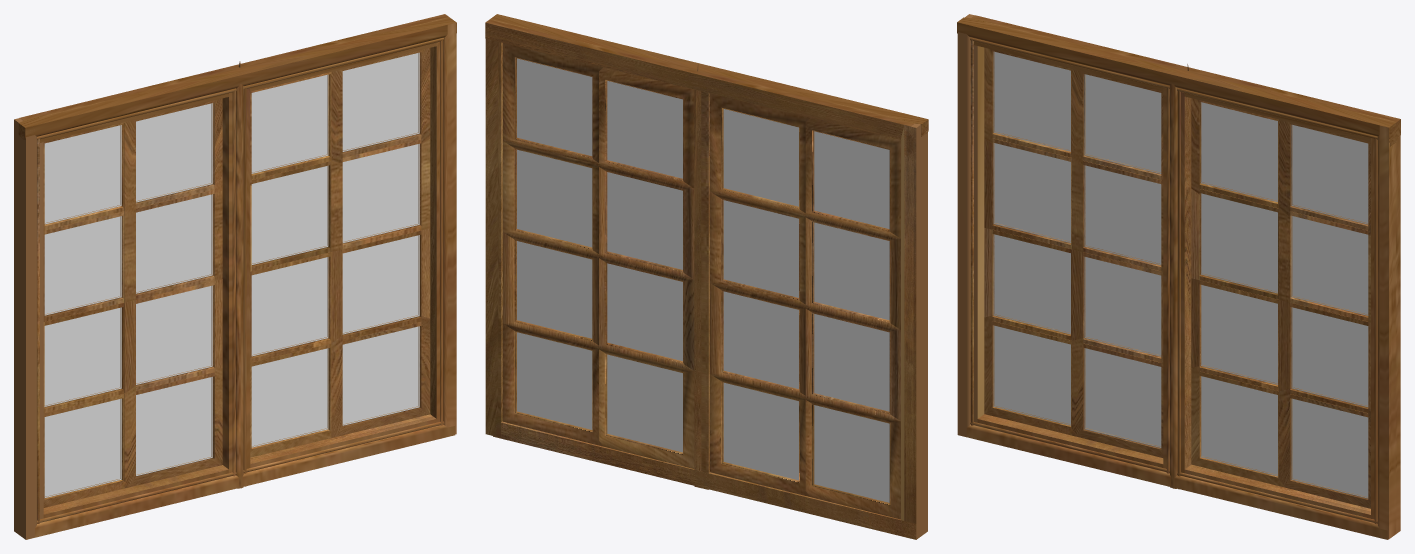
File: switch.gltf
3 views of the same model, side by side, from view 1: azimuth 30°, elevation 25°; view 2: azimuth 150°, elevation 25°; view 3: azimuth 330°, elevation 25° (orthographic).
Parts seen in each view (by area): view 1: Plane.001, Plane.002, Cube.001_Cube.007; view 2: Plane.001, Plane.002, Cube.001_Cube.007; view 3: Plane.001, Plane.002, Cube.001_Cube.007.
Part boxes in pixels (box(x1,y1,x2,y2)): Plane.001: box(250, 48, 430, 457); Plane.002: box(43, 98, 222, 507); Cube.001_Cube.007: box(14, 14, 456, 539); Plane.001: box(503, 43, 694, 468); Plane.002: box(710, 93, 900, 519); Cube.001_Cube.007: box(485, 14, 928, 539); Plane.001: box(1191, 98, 1370, 508); Plane.002: box(984, 47, 1163, 457); Cube.001_Cube.007: box(957, 14, 1400, 539).
Size of the model in its own units: 1.57 by 1.46 by 0.0742.
Materials: 5 (3 with a texture image).
